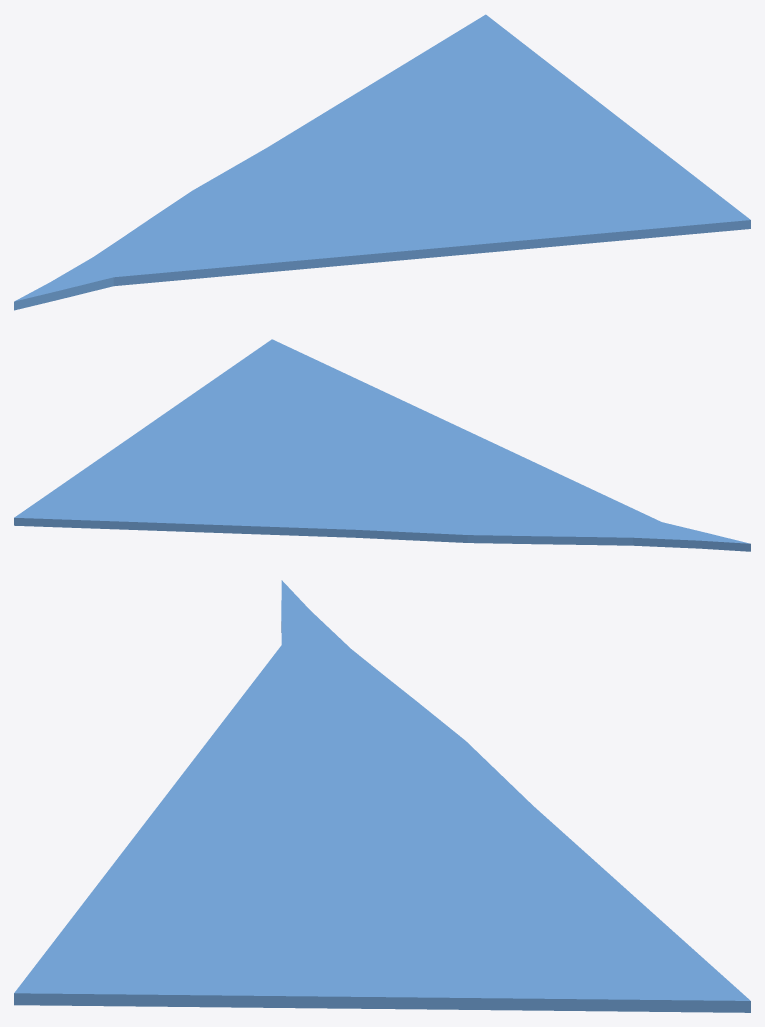
3 views of the same model, one above another, from view 1: azimuth 30°, elevation 25°; view 2: azimuth 150°, elevation 25°; view 3: azimuth 270°, elevation 25° (orthographic). The views are drawn at different scales.
Bounding box in the file's own units: 231 × 3.05 × 171.
